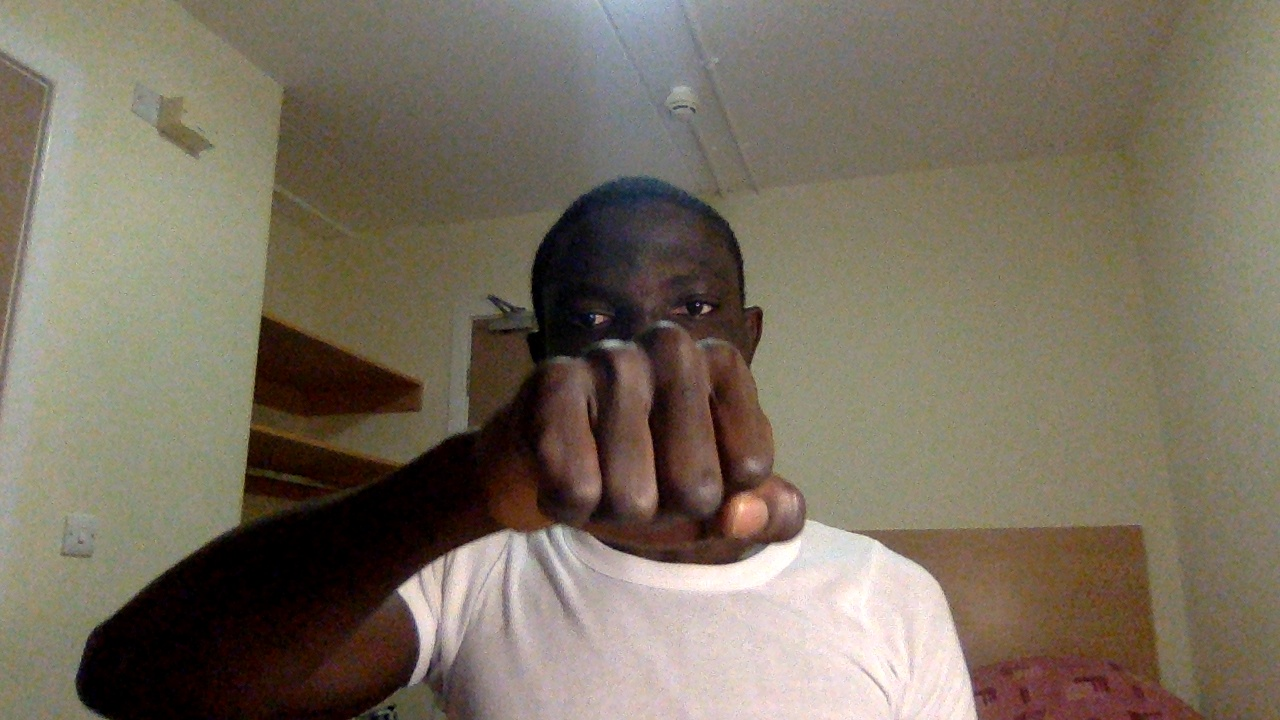Yes: (475, 314, 817, 576)
